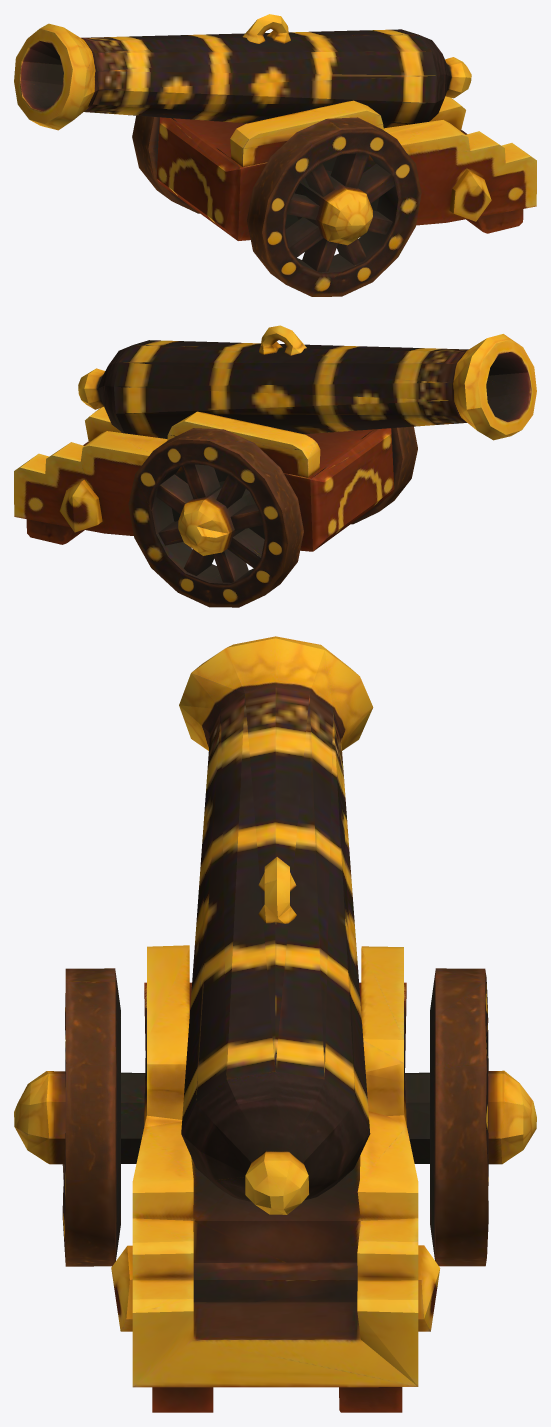
Rendered from cannon.glb.
3 views of the same model, one above another, from view 1: azimuth 30°, elevation 25°; view 2: azimuth 150°, elevation 25°; view 3: azimuth 270°, elevation 25° (orthographic). The views are drawn at different scales.
Parts seen in each view (by area): view 1: mesh_000; view 2: mesh_000; view 3: mesh_000.
Boxes of the visible parts, x1,y1,x2,y2 form: mesh_000: [14, 14, 536, 296]; mesh_000: [14, 325, 536, 607]; mesh_000: [14, 636, 536, 1412].
Size of the model in its own units: 0.9541 by 0.5386 by 0.5728.
Materials: 1 (1 with a texture image).
